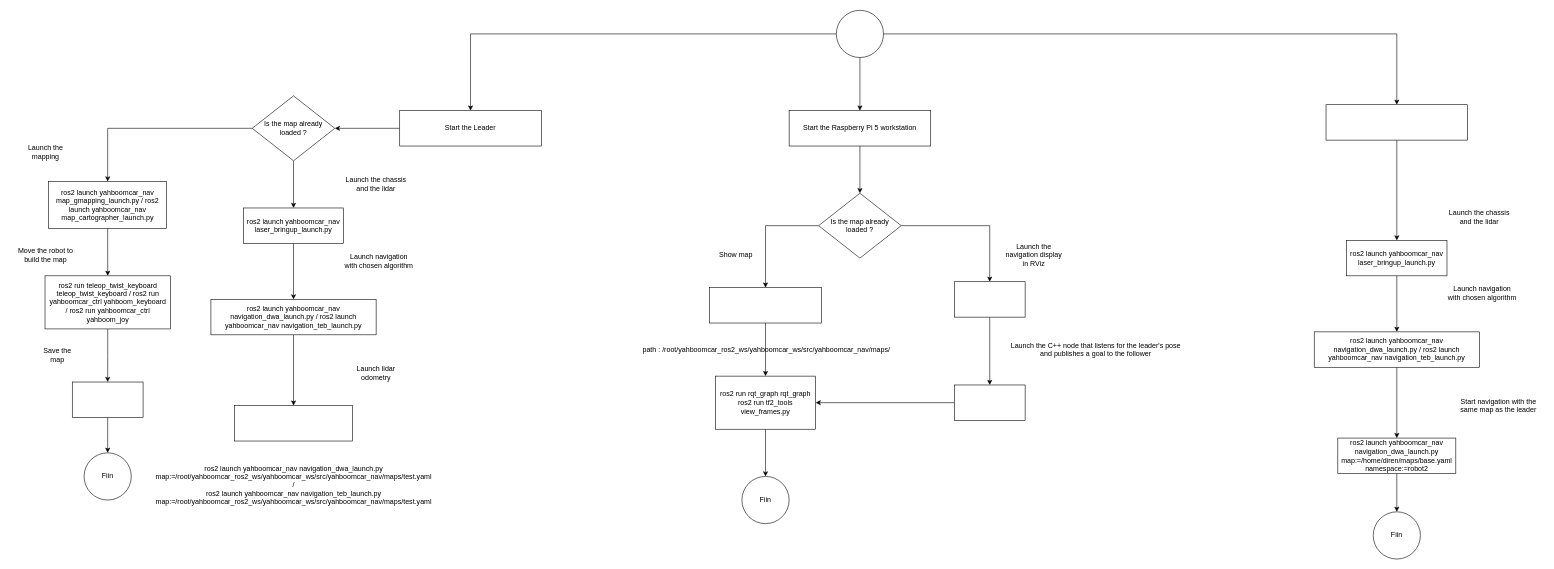
Some shapes in this 1554 by 569 pixel diagram are drawn without their labels. The shapes that lost their labels are listed below. From the top down, each one's centre as x and y in pixels, then its label:
At pixel 860 34: "Start".
At pixel 1396 122: "Start the Followers".
At pixel 765 305: "ros2 launch yahboomcar_nav display_map_launch.py".
At pixel 989 299: "ros2 launch yahboomcar_nav display_nav_launch.py".
At pixel 107 399: "ros2 launch yahboomcar_nav save_map_launch.py".
At pixel 989 402: "ros2 run my_pkg follower_goal_node".
At pixel 293 423: "ros2 launch rf2o_laser_odometry rf2o_laser_odometry.launch.py".
